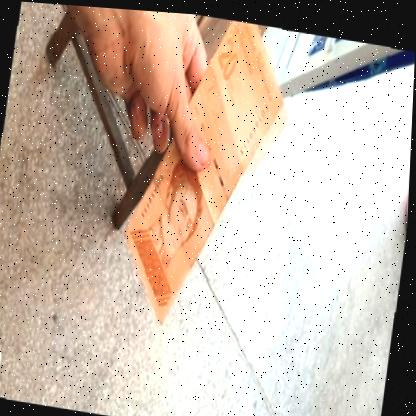twenty-front-vef: (116, 7, 294, 337)
